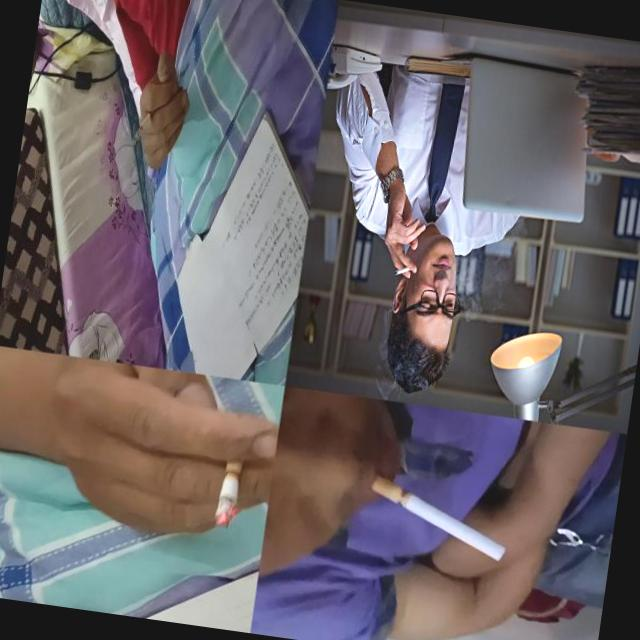cigarette: (360, 474, 514, 564), (212, 448, 245, 530), (132, 100, 159, 149), (394, 264, 414, 278)
